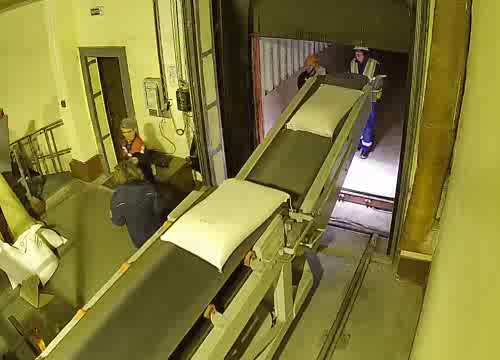bag: (158, 176, 290, 270), (285, 84, 365, 140)
